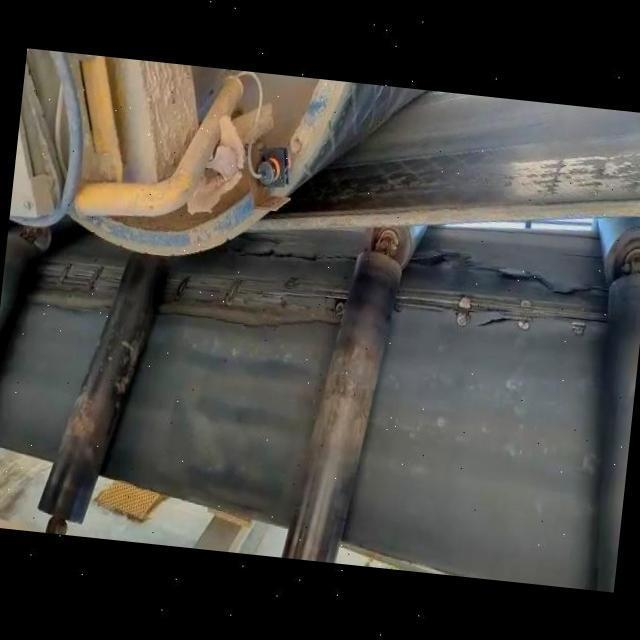Tear: (396, 240, 608, 337), (160, 260, 358, 328), (32, 252, 132, 318)
